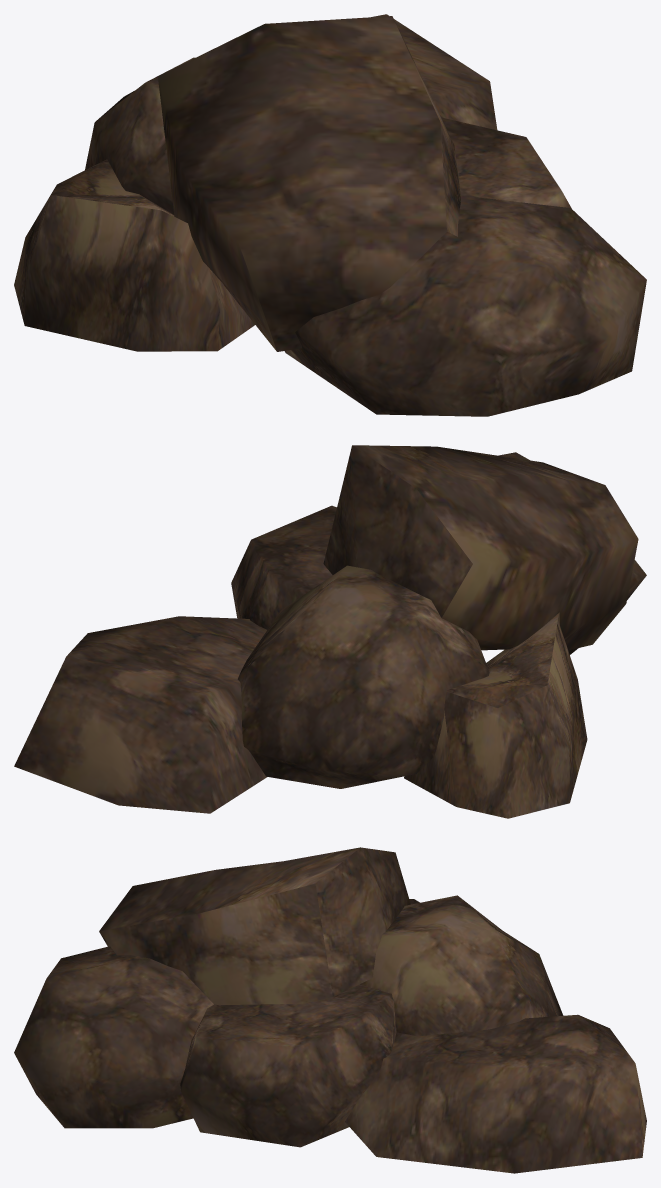
Rendered from BOSS_Stone_01.FBX.
The picture shows the model from 3 angles, top to bottom: view 1: azimuth 30°, elevation 25°; view 2: azimuth 150°, elevation 25°; view 3: azimuth 270°, elevation 25°; orthographic projection. The views are drawn at different scales.
Visible parts, largest first — view 1: BOSS_Stone_01; view 2: BOSS_Stone_01; view 3: BOSS_Stone_01.
Part boxes in pixels (x1,y1,x2,y2): BOSS_Stone_01: (14,14,646,416); BOSS_Stone_01: (14,445,646,818); BOSS_Stone_01: (14,847,646,1173).
Bounding box in the file's own units: 3.53 × 1.89 × 4.78.
